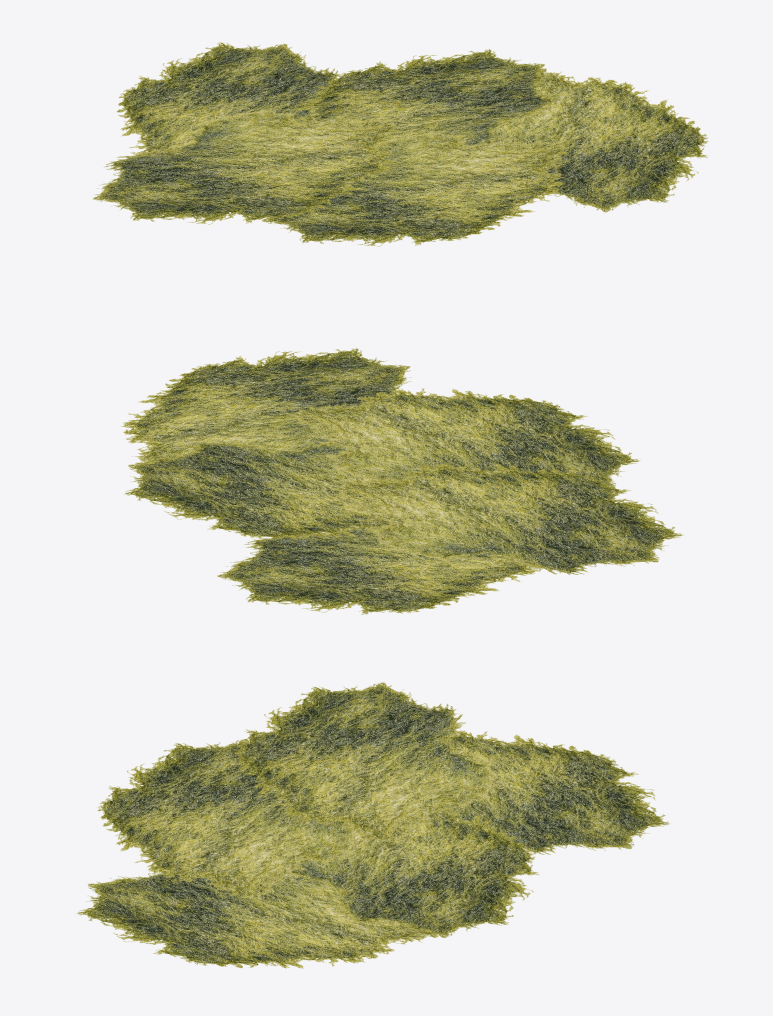
The model's file is Alga_filamentosa.glb.
3 renders of one model, top to bottom at view 1: azimuth 30°, elevation 25°; view 2: azimuth 150°, elevation 25°; view 3: azimuth 270°, elevation 25°, orthographic. The views are drawn at different scales.
Parts seen in each view (by area): view 1: Alga filamentosa 4.003; view 2: Alga filamentosa 4.003; view 3: Alga filamentosa 4.003.
Boxes of the visible parts, box(x1,y1,x2,y2) form: Alga filamentosa 4.003: box(92, 42, 708, 246); Alga filamentosa 4.003: box(121, 348, 682, 614); Alga filamentosa 4.003: box(77, 682, 669, 968).
Bounding box in the file's own units: 25.75 × 0.1763 × 24.92.
Materials: 5 (5 with a texture image).
